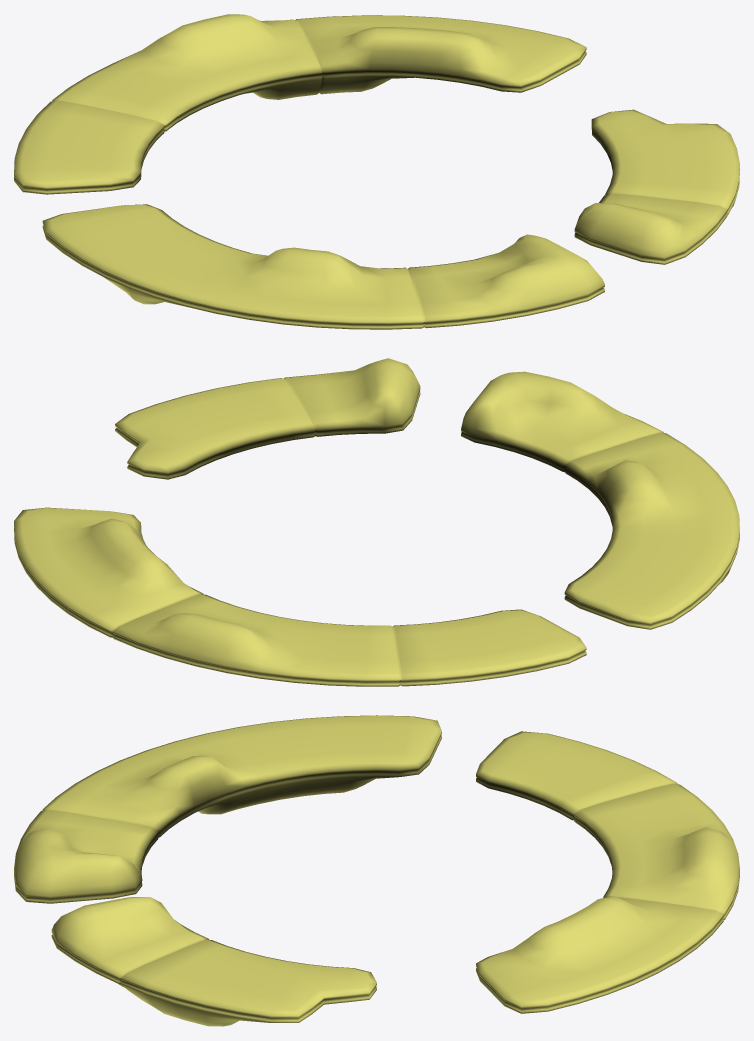
The model's file is env_planetRingRing.FBX.
The picture shows the model from 3 angles, top to bottom: view 1: azimuth 30°, elevation 25°; view 2: azimuth 150°, elevation 25°; view 3: azimuth 270°, elevation 25°; orthographic projection.
Visible parts, largest first — view 1: env_planetRingRing; view 2: env_planetRingRing; view 3: env_planetRingRing.
Boxes of the visible parts, <box> form: env_planetRingRing: <box>14,14,739,329</box>; env_planetRingRing: <box>14,358,739,686</box>; env_planetRingRing: <box>14,715,739,1026</box>.
Size of the model in its own units: 12.19 by 1.12 by 12.46.
